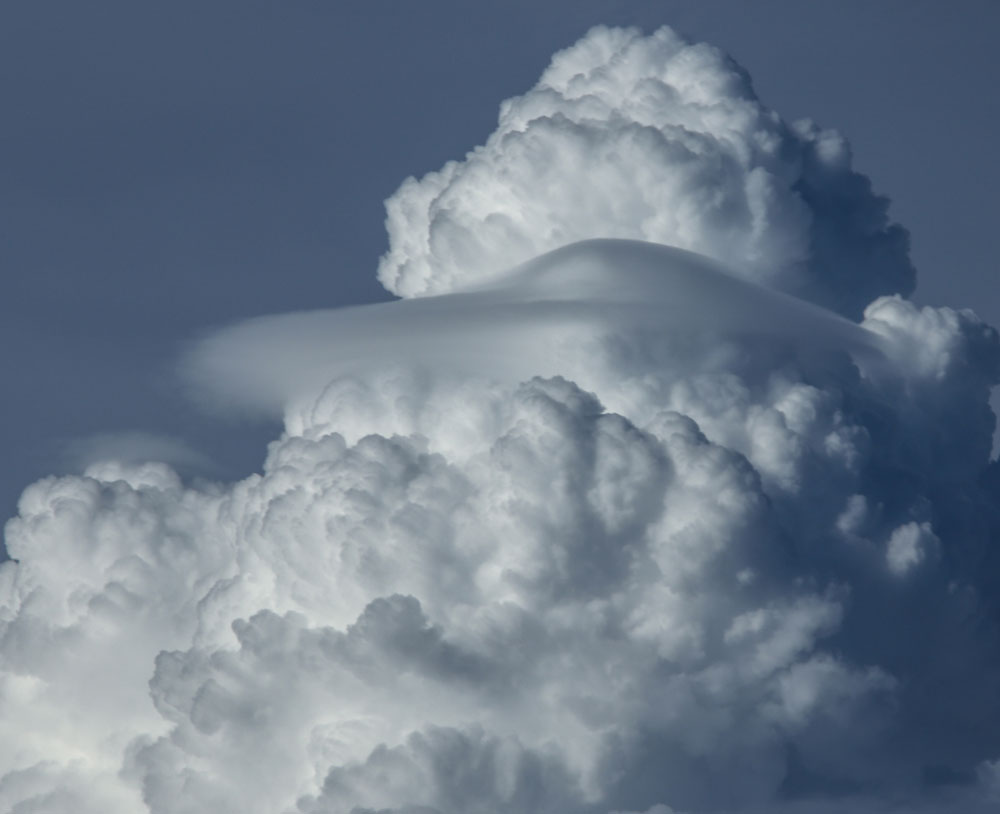Cumulus: (9, 218, 998, 810), (357, 5, 926, 324)
